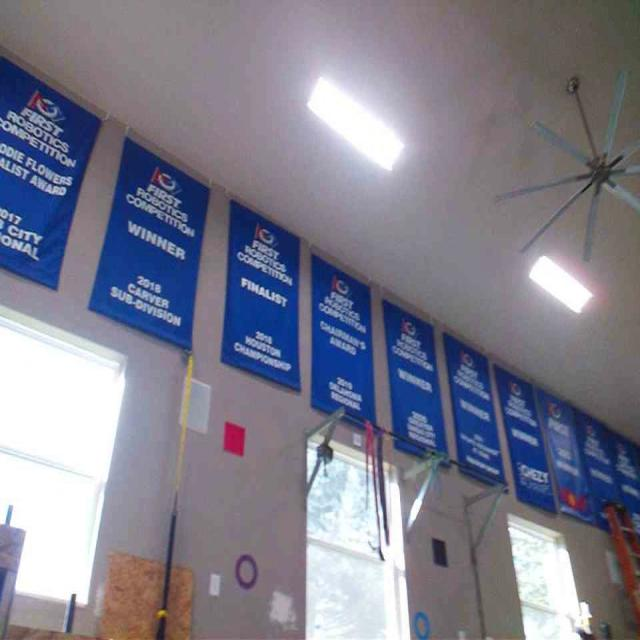ring_blue: (412, 611, 431, 639)
ring_purple: (234, 554, 257, 589)
square_black: (429, 537, 448, 567)
square_red: (221, 421, 246, 455)
